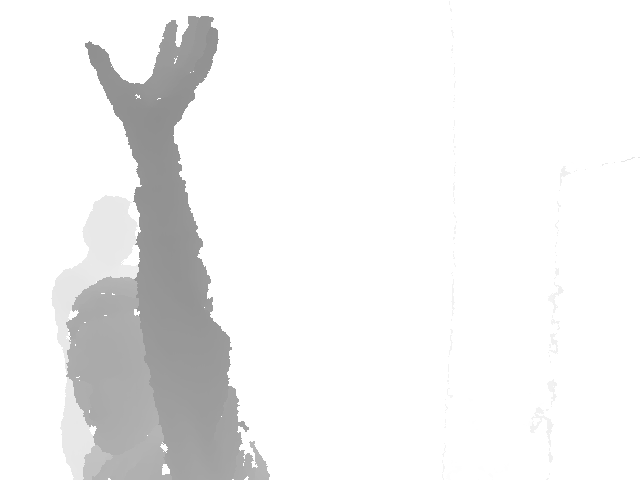hand: (84, 16, 218, 138)
head: (66, 276, 173, 453), (83, 194, 138, 267)
person: (65, 16, 272, 480), (50, 194, 138, 480)
